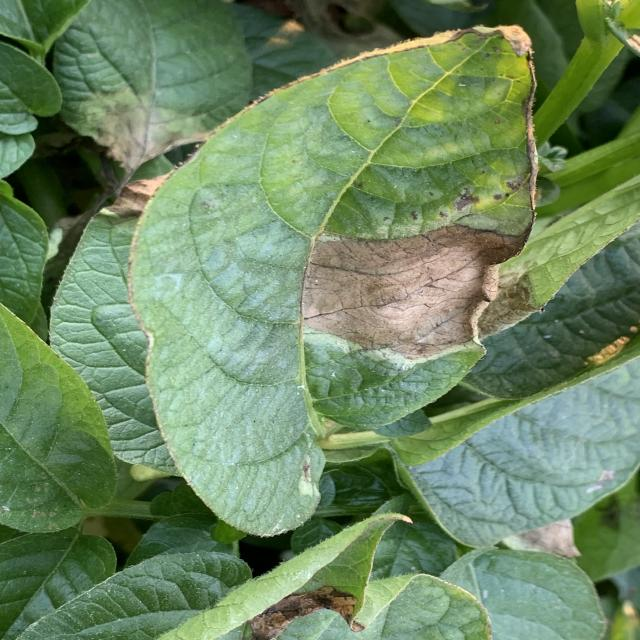lateblight: (302, 225, 523, 359), (387, 26, 532, 59)
